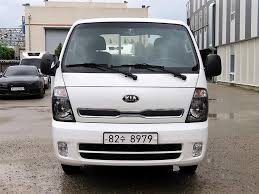car: (101, 129, 159, 146)
